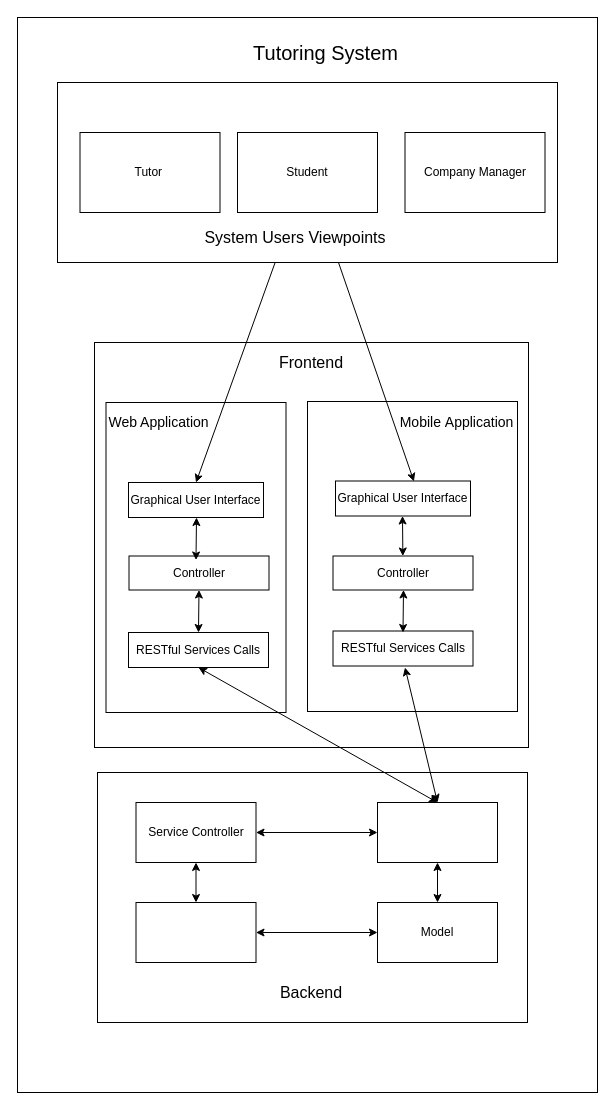
Some shapes in this 615 by 1110 pixel diagram are drawn without their labels. The centre of each missing label's shape, as x and y in pixels:
"Data Persistance" goes at (195,932).
"RESTful Services Controller" goes at (437,832).
